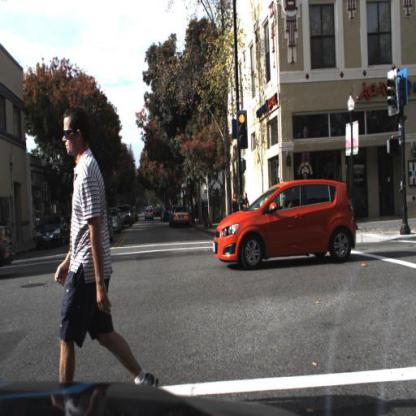car: (213, 180, 357, 270), (33, 215, 68, 252), (109, 205, 123, 241), (172, 203, 191, 228), (112, 208, 125, 235), (122, 203, 134, 230), (144, 206, 156, 224)
pedestrian: (53, 109, 161, 405), (406, 167, 416, 227), (233, 189, 238, 223), (244, 190, 249, 224)
trafficLight: (238, 112, 248, 152)
